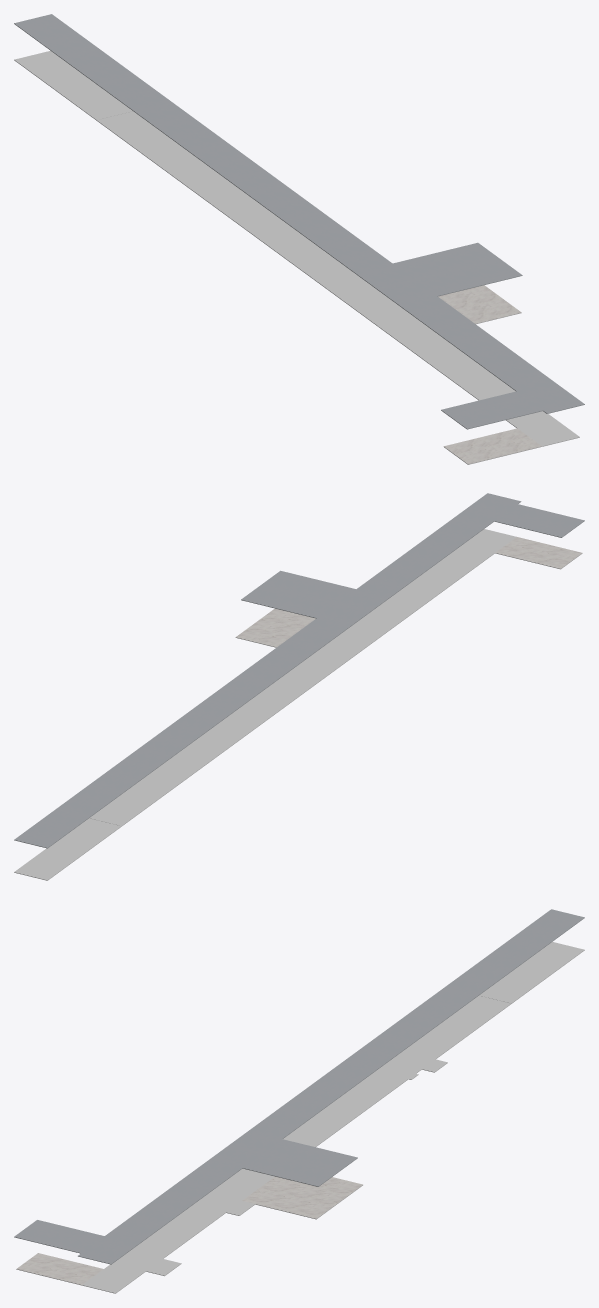
The model's file is bok  이 것도.fbx.
The picture shows the model from 3 angles, top to bottom: view 1: azimuth 30°, elevation 25°; view 2: azimuth 150°, elevation 25°; view 3: azimuth 330°, elevation 25°; orthographic projection. The views are drawn at different scales.
Visible parts, largest first — view 1: 천장.002, Cube.004; view 2: 천장.002, Cube.004; view 3: 천장.002, Cube.004.
Boxes of the visible parts, x1,y1,x2,y2 form: 천장.002: [14, 14, 584, 429]; Cube.004: [14, 51, 579, 464]; 천장.002: [14, 493, 584, 848]; Cube.004: [14, 529, 582, 880]; 천장.002: [14, 909, 584, 1264]; Cube.004: [16, 942, 584, 1293].
Bounding box in the file's own units: 3001 × 532 × 13917.
